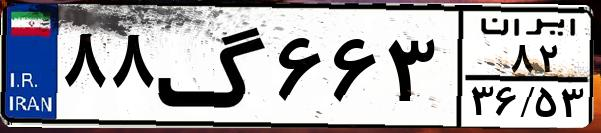2: (537, 27, 568, 80)
3: (385, 28, 445, 110), (560, 70, 590, 125), (470, 70, 495, 125)
5: (535, 70, 560, 125)
6: (270, 28, 330, 110), (330, 28, 385, 110), (495, 70, 520, 125)
8: (57, 26, 110, 100), (110, 28, 156, 98), (508, 27, 537, 80)
گ: (156, 12, 270, 120)
